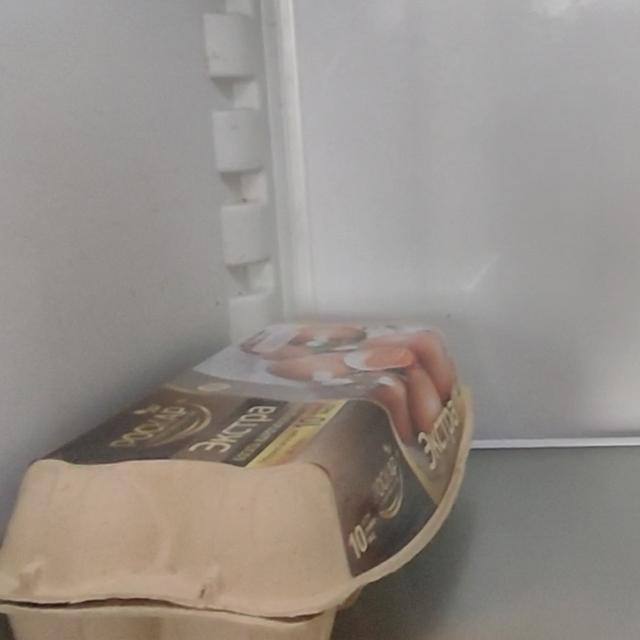egg: (0, 295, 500, 640)
